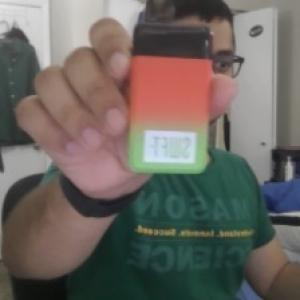Swift-E-Ciggirate: (124, 3, 216, 178)
